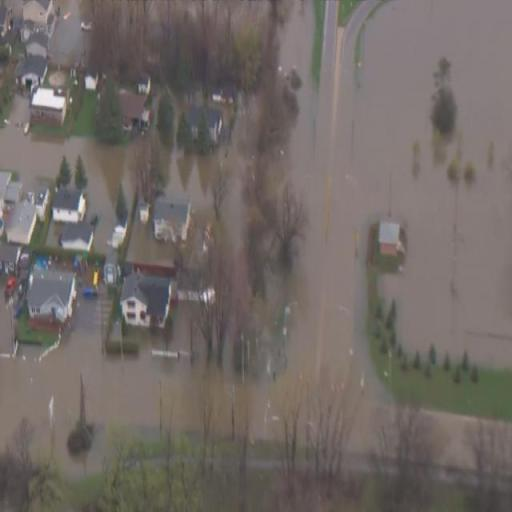flood: (0, 0, 512, 490), (0, 101, 242, 266)
house: (25, 250, 79, 332), (119, 251, 175, 329), (51, 154, 90, 226), (151, 193, 196, 245), (0, 170, 37, 228), (29, 82, 70, 128), (18, 50, 48, 92), (378, 218, 402, 258)
